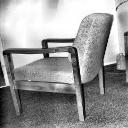chair_success: (1, 7, 116, 123)
